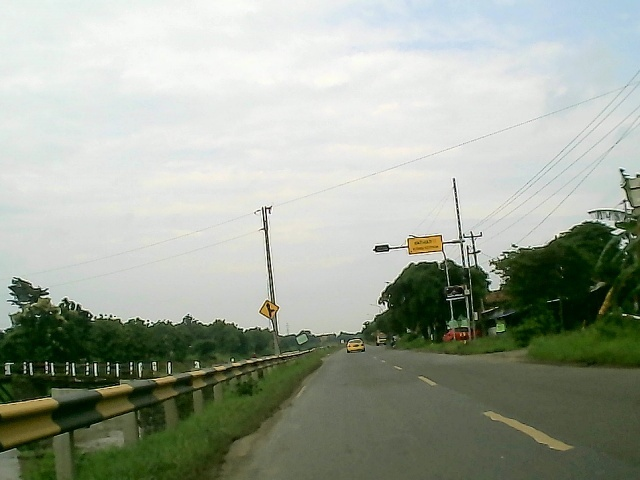Simpang kanan dengan prioritas: (257, 299, 282, 322)
